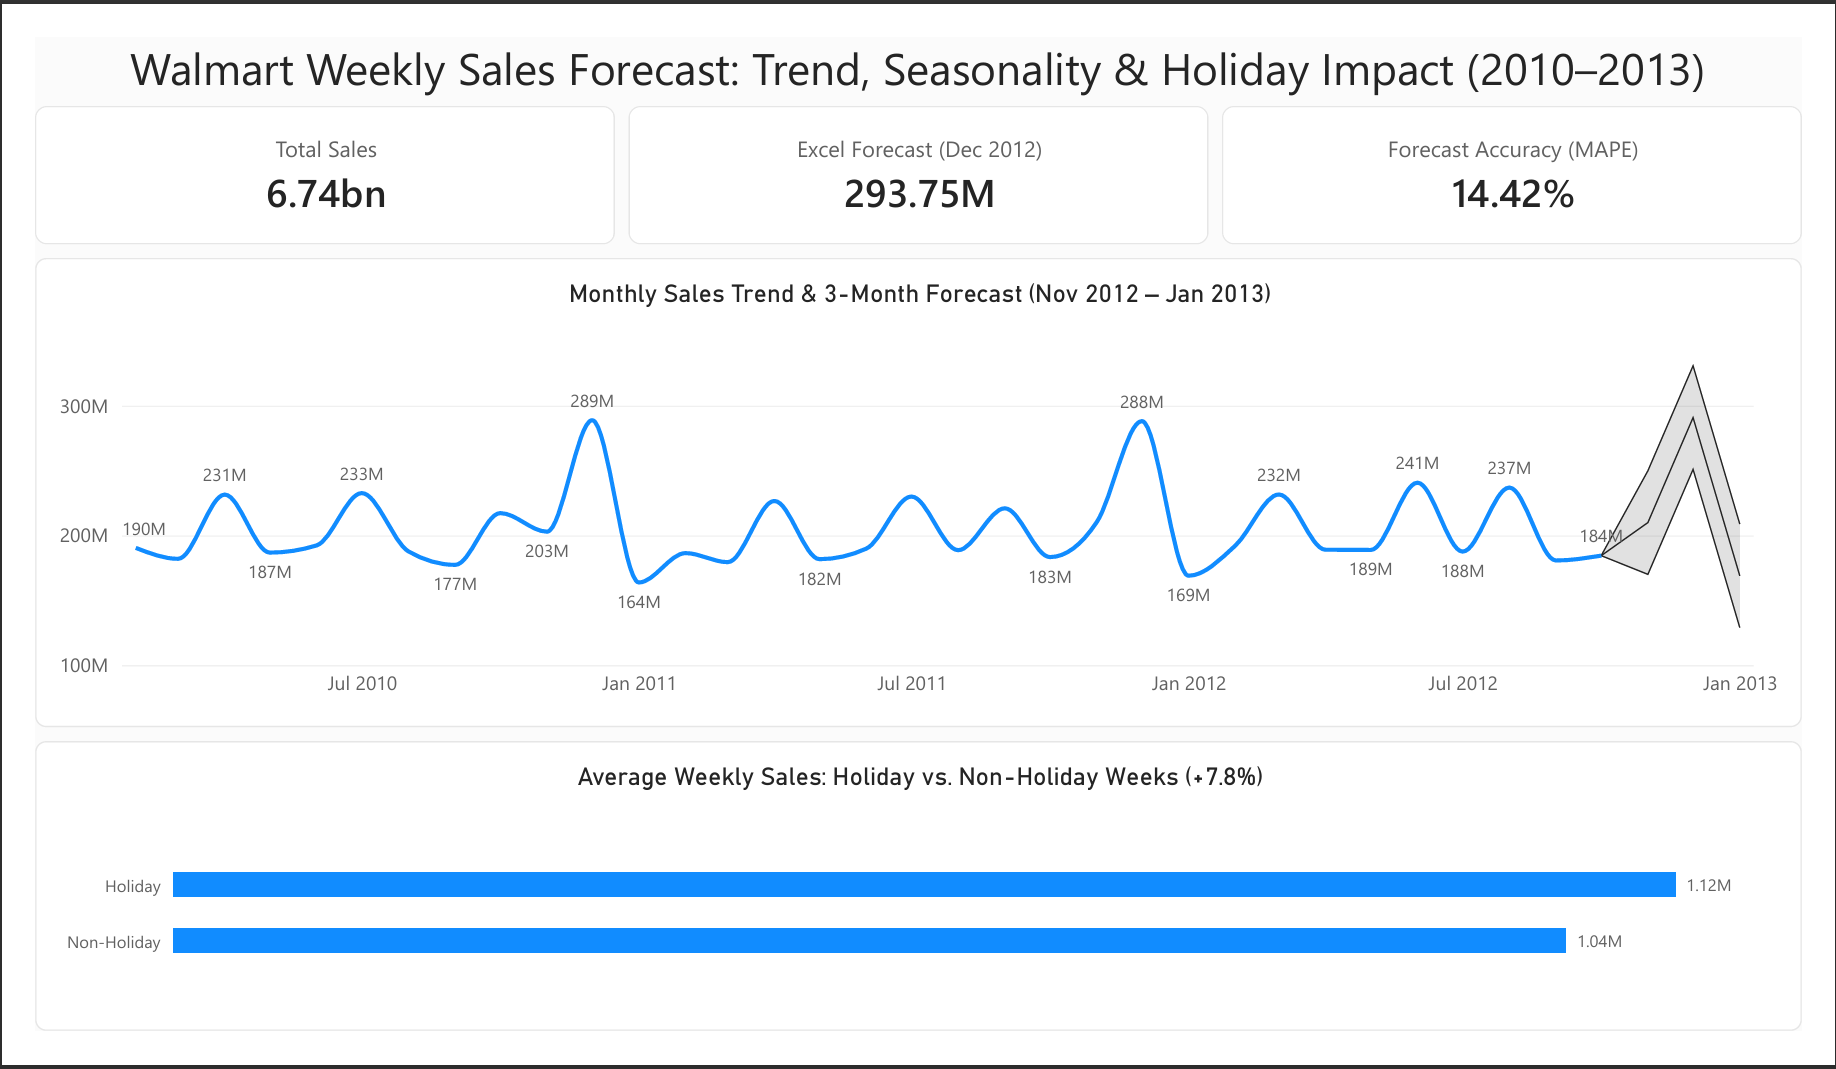

The page's visual inventory and layout, read from the dashboard file:
{"tool":"powerbi","page":{"name":"Page 2","canvas":[1280,720],"ordinal":0},"visuals":[{"type":"textbox","box":[0,0,1280,50],"z":0},{"type":"cardVisual","fields":{"Data":["Monthly_Sales.Total Sales"]},"box":[0,50,420,100],"z":1000},{"type":"cardVisual","fields":{"Data":["Monthly_Sales.Excel Forecast (Dec 2012)"]},"box":[430,50,420,100],"z":2000},{"type":"cardVisual","fields":{"Data":["Monthly_Sales.Forecast Accuracy (MAPE)"]},"box":[860,50,420,100],"z":3000},{"type":"lineChart","title":"Monthly Sales Trend & 3-Month Forecast (Nov 2012 – Jan 2013)","fields":{"Y":["Sum(Monthly_Sales.total_sales)"],"Category":["Monthly_Sales.month"]},"box":[0,160,1280,340],"z":4000},{"type":"clusteredBarChart","title":"Average Weekly Sales: Holiday vs. Non-Holiday Weeks (+7.8%)","fields":{"Category":["holiday_comparison.HolidayLabel"],"Y":["Sum(holiday_comparison.AvgSales)"]},"box":[0,510,1280,210],"z":5000}]}

Visuals, with their boxes on the page's 1280x720 design canvas (x1, y1, x2, y2). These are canvas units, not pixel positions in the 1836x1069 screenshot, which may show the page scaled, cropped or inside an application window:
textbox: select_region(0, 0, 1280, 50)
cardVisual - Monthly_Sales.Total Sales: select_region(0, 50, 420, 150)
cardVisual - Monthly_Sales.Excel Forecast (Dec 2012): select_region(430, 50, 850, 150)
cardVisual - Monthly_Sales.Forecast Accuracy (MAPE): select_region(860, 50, 1280, 150)
"Monthly Sales Trend & 3-Month Forecast (Nov 2012 – Jan 2013)" lineChart: select_region(0, 160, 1280, 500)
"Average Weekly Sales: Holiday vs. Non-Holiday Weeks (+7.8%)" clusteredBarChart: select_region(0, 510, 1280, 720)
